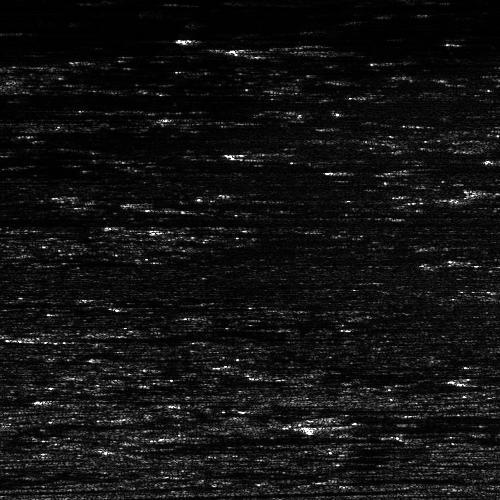object: (0, 330, 121, 345), (188, 45, 333, 56), (257, 421, 372, 430), (424, 374, 477, 385), (229, 145, 260, 162), (153, 433, 226, 440)
shadow: (32, 330, 253, 345), (0, 214, 142, 229), (245, 145, 352, 162), (190, 433, 391, 440), (315, 421, 457, 430), (0, 297, 86, 308), (261, 45, 333, 56), (0, 139, 119, 144), (450, 374, 500, 385)
